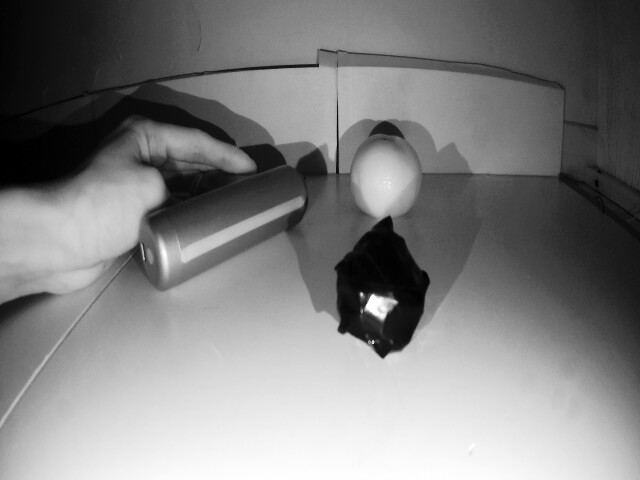silver: (329, 222, 451, 365)
